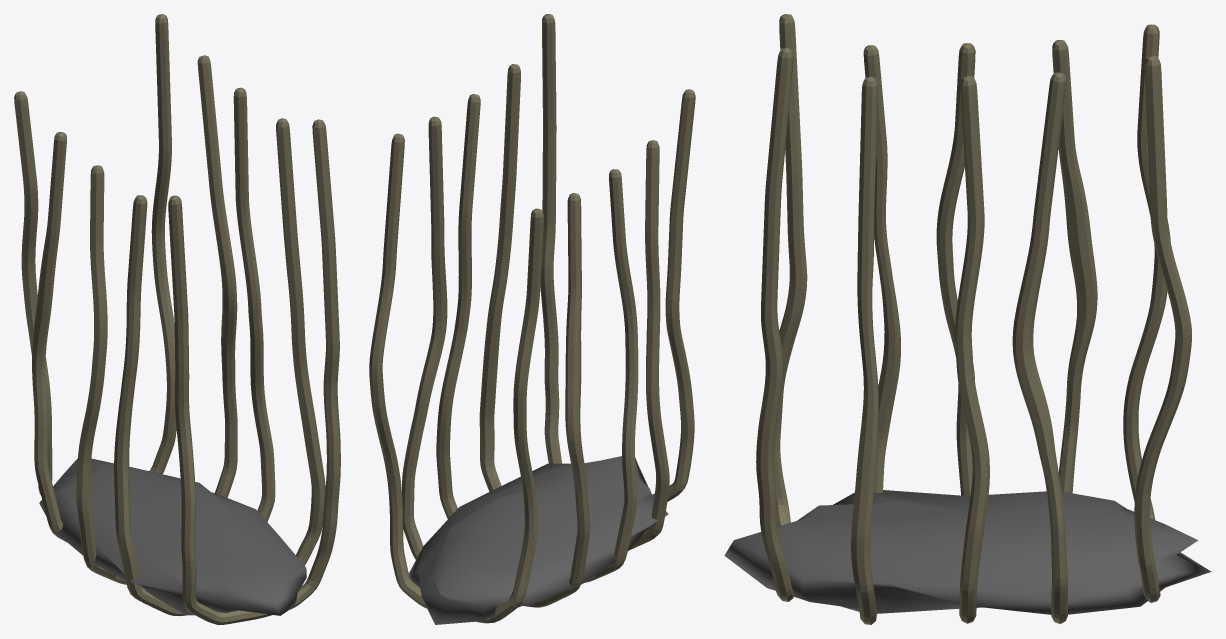
File: floting_stone_3.fbx
3 views of the same model, side by side, from view 1: azimuth 30°, elevation 25°; view 2: azimuth 150°, elevation 25°; view 3: azimuth 270°, elevation 25° (orthographic). The views are drawn at different scales.
Parts seen in each view (by area): view 1: Cube.001; view 2: Cube.001; view 3: Cube.001.
Part boxes in pixels (<box>): Cube.001: <box>14,14,340,624</box>; Cube.001: <box>369,14,695,624</box>; Cube.001: <box>724,14,1211,624</box>.
Size of the model in its own units: 71.33 by 168 by 125.
